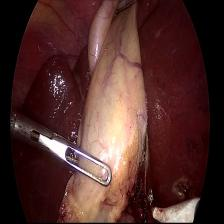Grasper: (6, 98, 119, 199)
Hook: (146, 189, 202, 224)
